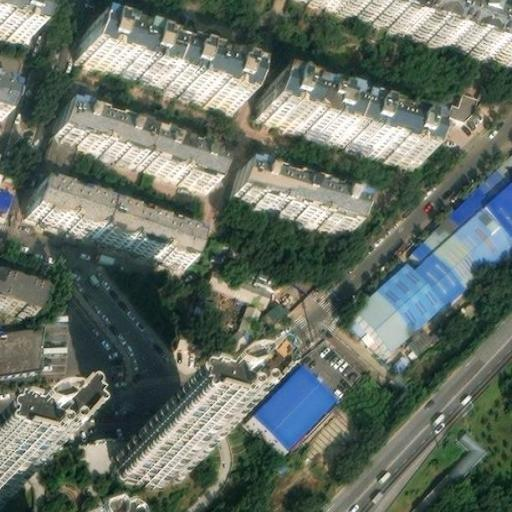building: (346, 147, 512, 354), (259, 82, 425, 165), (320, 0, 512, 61), (231, 156, 360, 231), (402, 424, 488, 512), (251, 358, 337, 445), (94, 202, 197, 262), (52, 99, 149, 159), (116, 416, 210, 474), (77, 25, 167, 83), (157, 52, 243, 108), (136, 130, 219, 185), (30, 180, 104, 231), (209, 264, 278, 305), (0, 275, 39, 316), (40, 130, 77, 173), (232, 298, 265, 341), (0, 0, 32, 41), (448, 78, 481, 106), (0, 460, 20, 502), (0, 74, 15, 114)
